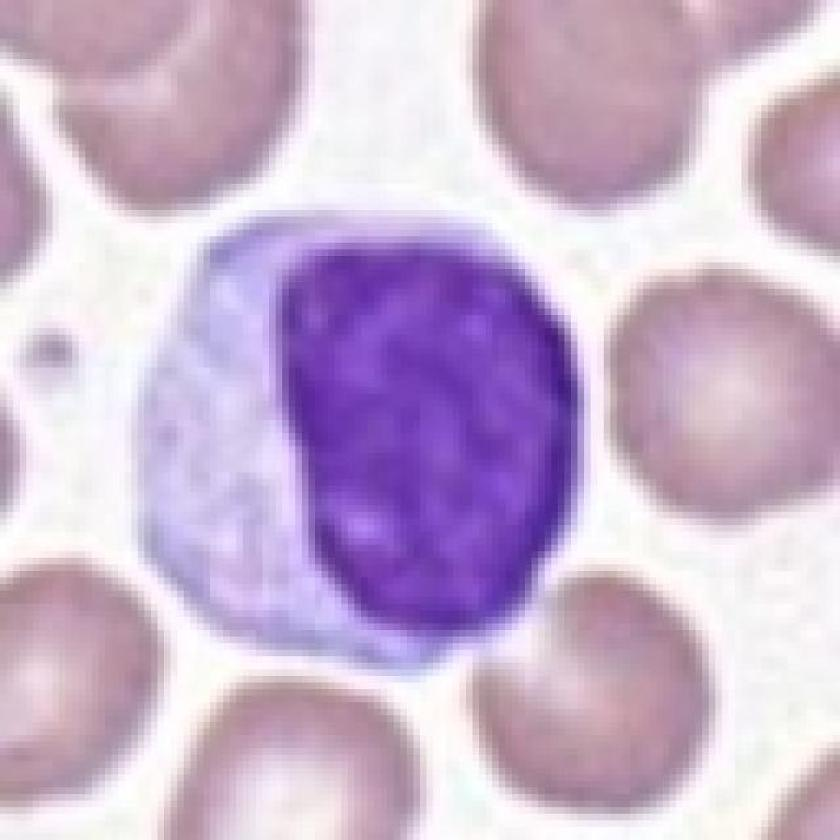lymphocyte: (131, 202, 589, 680)
